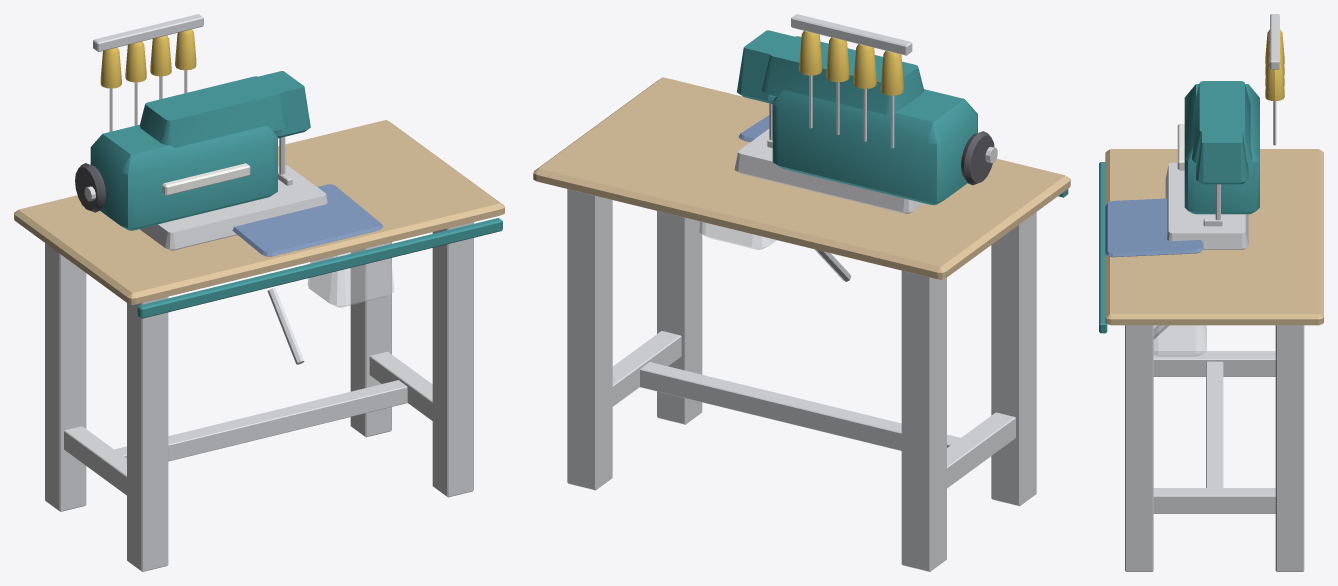
File: dry-cleaners-and-alterations-shop-overlocker-table-097e4c80__34968.glb
3 renders of one model, left to right at view 1: azimuth 30°, elevation 25°; view 2: azimuth 150°, elevation 25°; view 3: azimuth 270°, elevation 25°, orthographic. The views are drawn at different scales.
Parts seen in each view (by area): view 1: overlocker-table, balance-wheel/dark; view 2: overlocker-table, balance-wheel/dark; view 3: overlocker-table.
Part boxes in pixels (x1=…): overlocker-table: x1=14, y1=14, x2=504, y2=571; balance-wheel/dark: x1=75, y1=163, x2=105, y2=212; overlocker-table: x1=533, y1=14, x2=1070, y2=571; balance-wheel/dark: x1=961, y1=131, x2=994, y2=185; overlocker-table: x1=1099, y1=14, x2=1323, y2=571.
Size of the model in its own units: 1.06 by 1.25 by 0.597.
